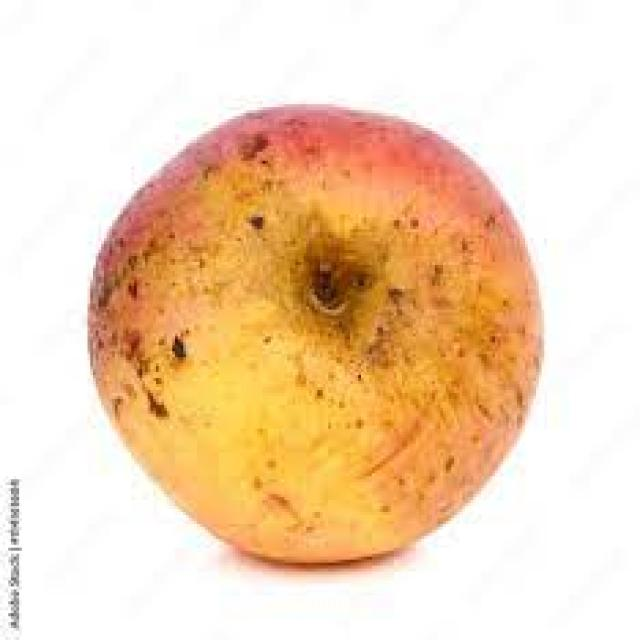overripe: (84, 98, 550, 568)
